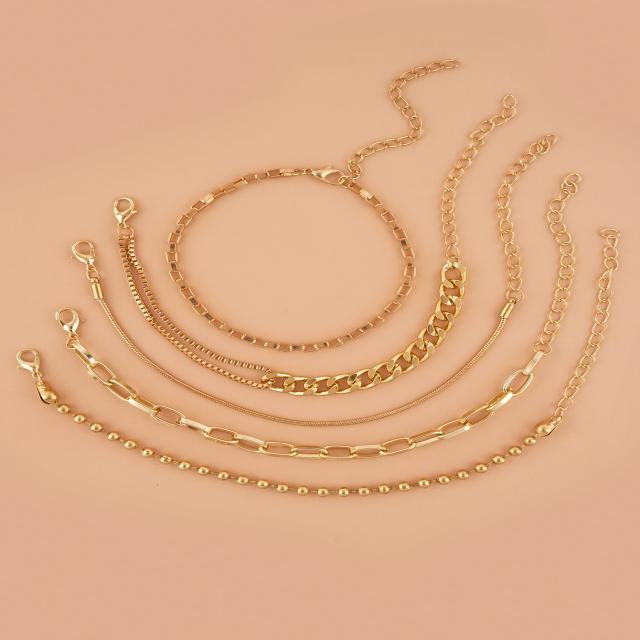bracelet: (13, 3, 640, 524)
